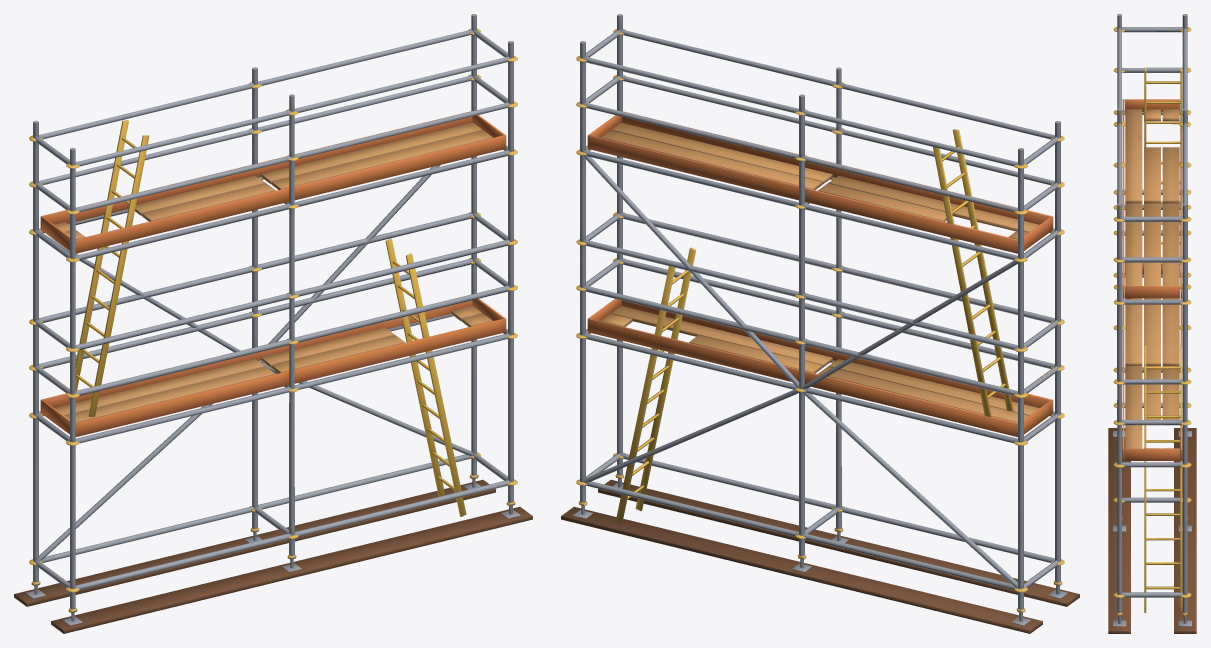
The model's file is scaffolding.glb.
3 views of the same model, side by side, from view 1: azimuth 30°, elevation 25°; view 2: azimuth 150°, elevation 25°; view 3: azimuth 270°, elevation 25° (orthographic). The views are drawn at different scales.
Parts seen in each view (by area): view 1: scaffolding_body; view 2: scaffolding_body; view 3: scaffolding_body.
Boxes of the visible parts, bbox=[...] form: scaffolding_body: bbox=[14, 14, 532, 633]; scaffolding_body: bbox=[561, 14, 1079, 633]; scaffolding_body: bbox=[1108, 14, 1196, 633].
Size of the model in its own units: 5.35 by 5.2 by 0.9832.
1 material, 1 textured.
